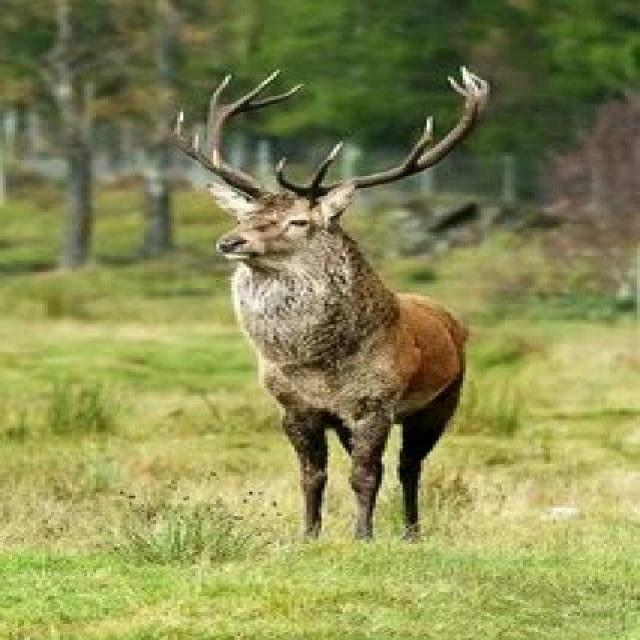deer: (128, 52, 568, 547)
